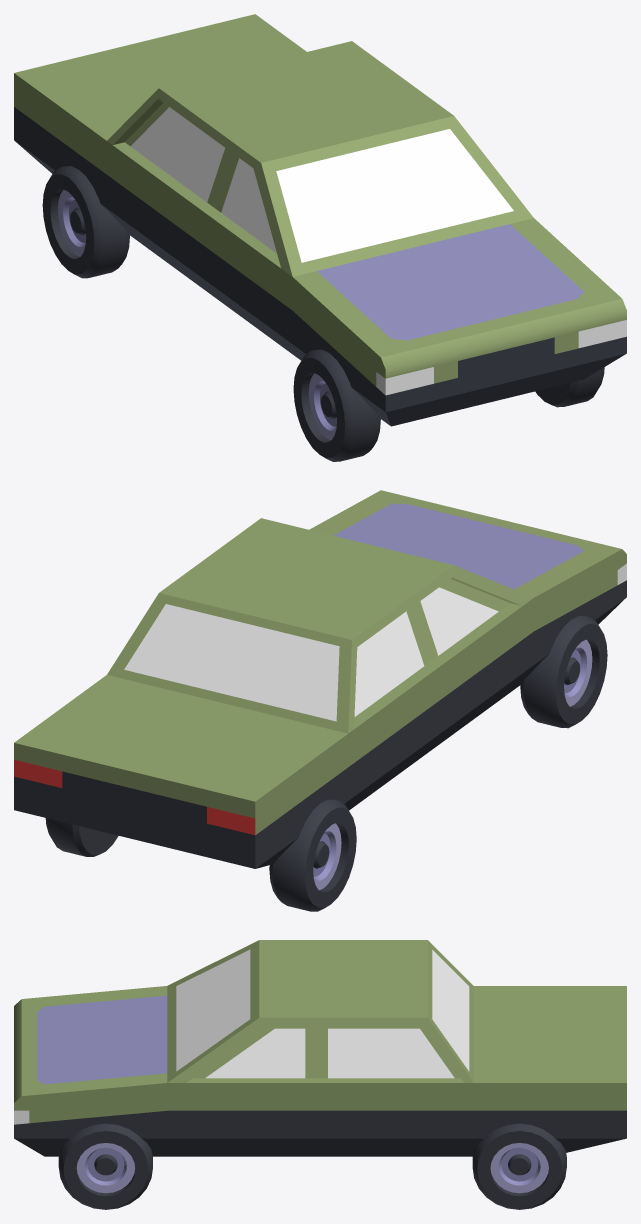
Rendered from Old green car.fbx.
3 renders of one model, top to bottom at view 1: azimuth 30°, elevation 25°; view 2: azimuth 150°, elevation 25°; view 3: azimuth 270°, elevation 25°, orthographic. The views are drawn at different scales.
Visible parts, largest first — view 1: mergedBlocks; view 2: mergedBlocks; view 3: mergedBlocks.
Part boxes in pixels (box(x1,y1,x2,y2)): mergedBlocks: box(14, 14, 626, 461); mergedBlocks: box(14, 490, 626, 911); mergedBlocks: box(14, 940, 626, 1209).
Size of the model in its own units: 16.16 by 13.08 by 40.
